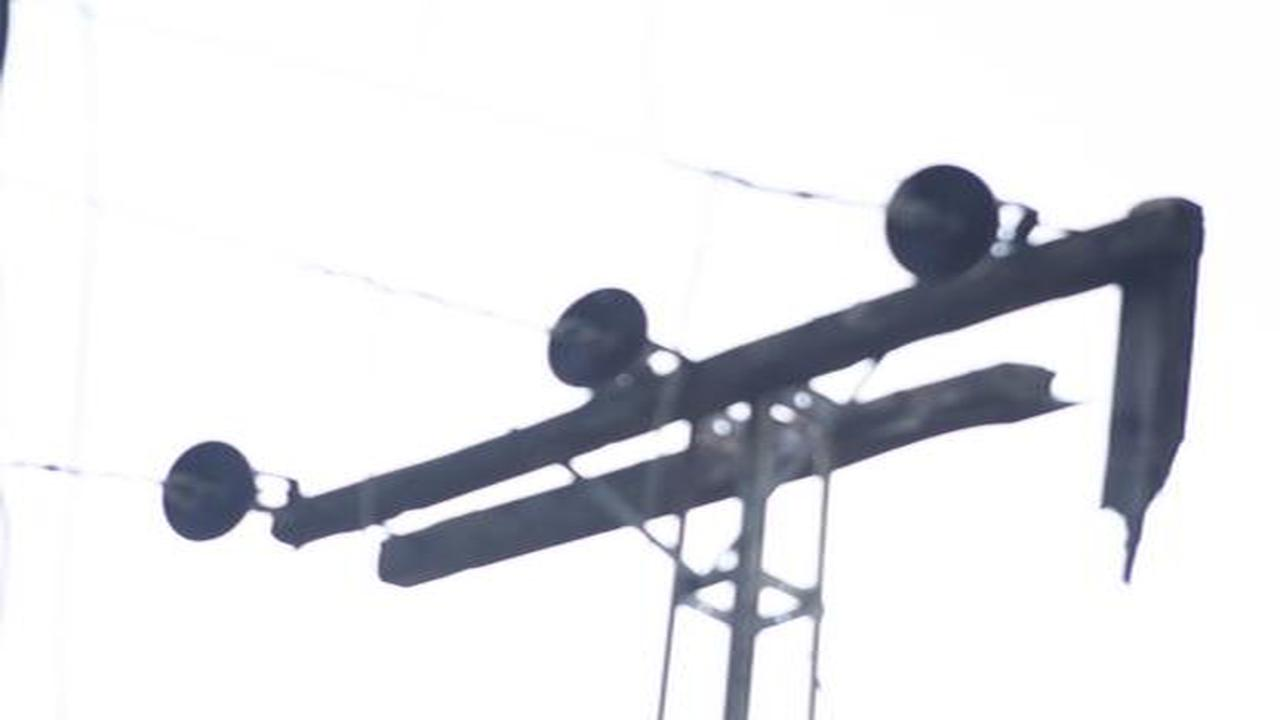insulator_disc: (882, 158, 1004, 282), (542, 284, 655, 392), (158, 435, 262, 547)
